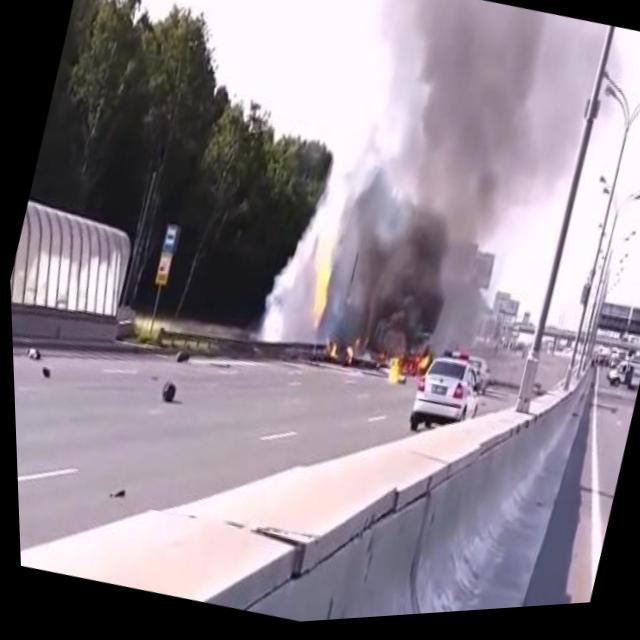fire: (370, 342, 430, 403), (298, 255, 338, 335), (313, 338, 358, 371)
